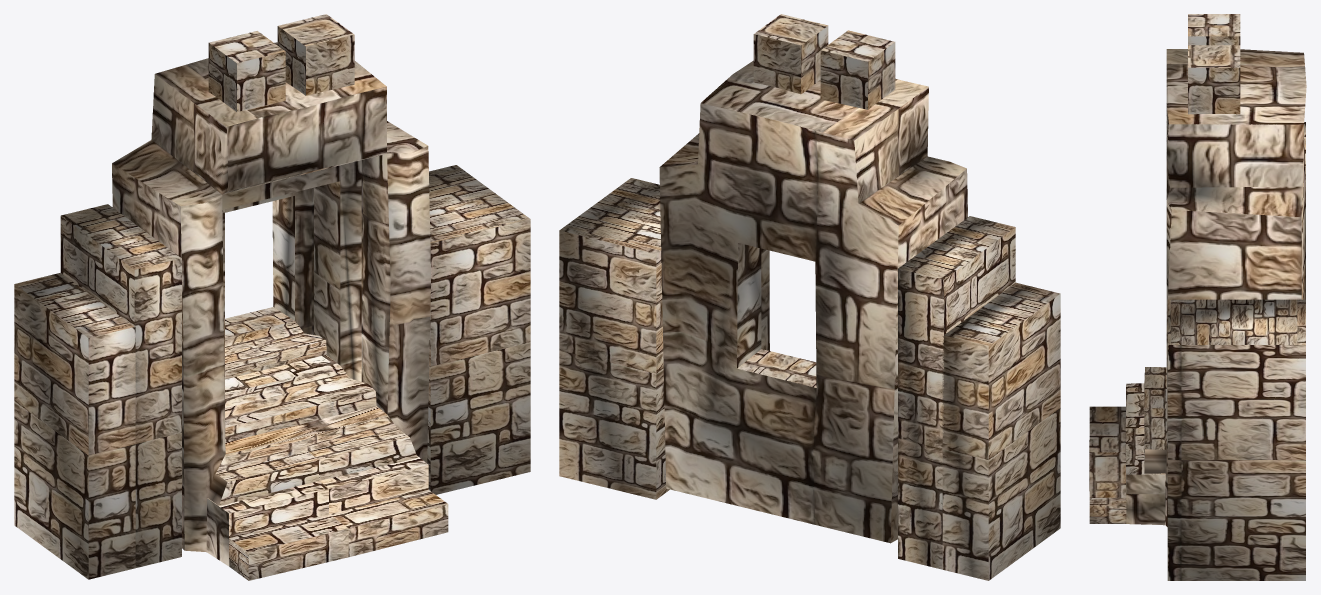
The model's file is puertainca 1.fbx.
The picture shows the model from 3 angles, left to right: view 1: azimuth 30°, elevation 25°; view 2: azimuth 150°, elevation 25°; view 3: azimuth 270°, elevation 25°; orthographic projection. The views are drawn at different scales.
Visible parts, largest first — view 1: Principal, Gradas, Cubo.002, Cubo, Cubo.001, Cube.002, Cube.001; view 2: Principal, Cubo.002, Cubo, Cubo.001, Cube.002, Cube.001, Gradas; view 3: Cubo, Principal, Gradas, Cube.001, Cube.002.
Boxes of the visible parts, x1,y1,x2,y2 form: Principal: (112, 42, 430, 566); Gradas: (207, 307, 448, 580); Cubo.002: (14, 273, 135, 579); Cubo: (427, 165, 530, 494); Cubo.001: (60, 204, 181, 567); Cube.002: (208, 31, 285, 111); Cube.001: (277, 14, 354, 95); Principal: (659, 60, 967, 543); Cubo.002: (942, 282, 1060, 580); Cubo: (559, 178, 669, 499); Cubo.001: (898, 216, 1015, 569); Cube.002: (820, 30, 895, 109); Cube.001: (753, 14, 828, 94); Gradas: (737, 349, 816, 387); Cubo: (1167, 299, 1305, 580); Principal: (1126, 49, 1306, 526); Gradas: (1089, 367, 1166, 523); Cube.001: (1188, 45, 1240, 114); Cube.002: (1188, 14, 1240, 45).
Bounding box in the file's own units: 2034 × 2073 × 928.
